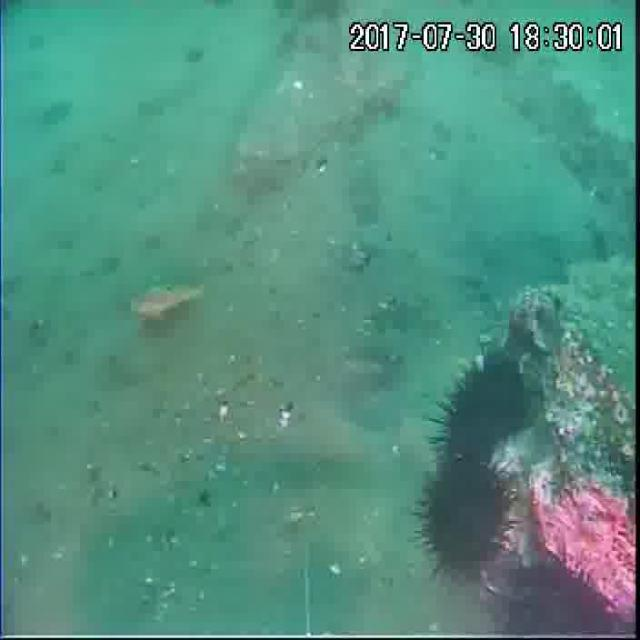echinus: (429, 346, 532, 464), (417, 459, 513, 580), (498, 554, 621, 640)
